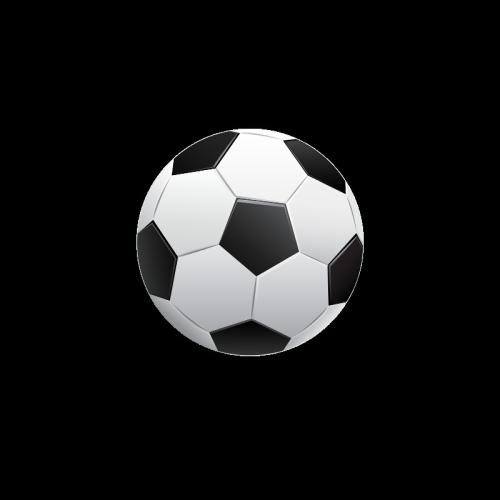football: (133, 120, 365, 362)
